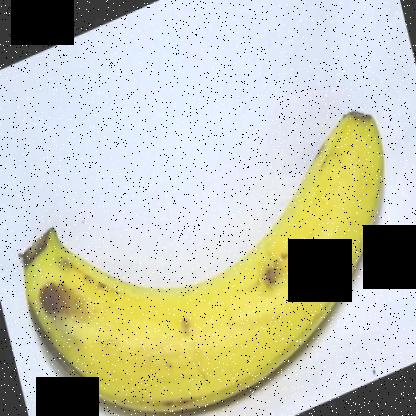freshripe: (14, 90, 399, 415)
